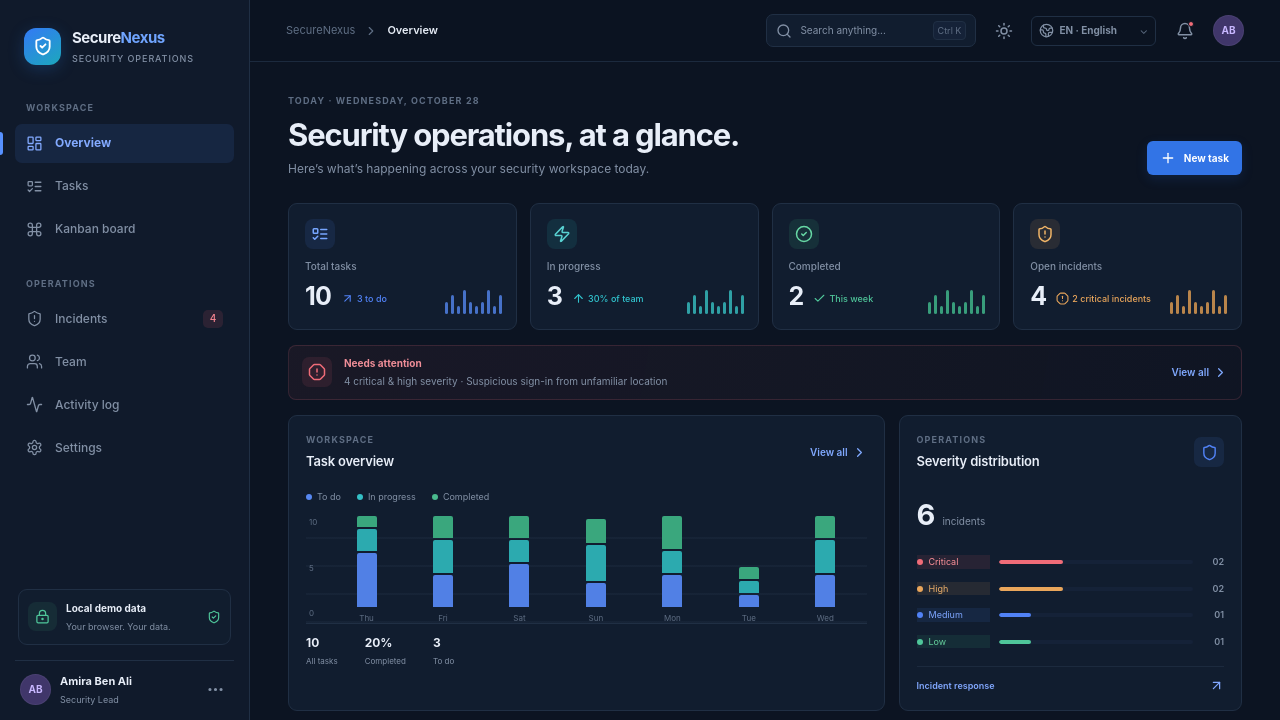
Scenario: navigates to task management and switches the interface to French RTL-aware locale
The image size is (1280, 720).
Click the link "Tasks". click: click(57, 186)
box: [26,178,88,194]
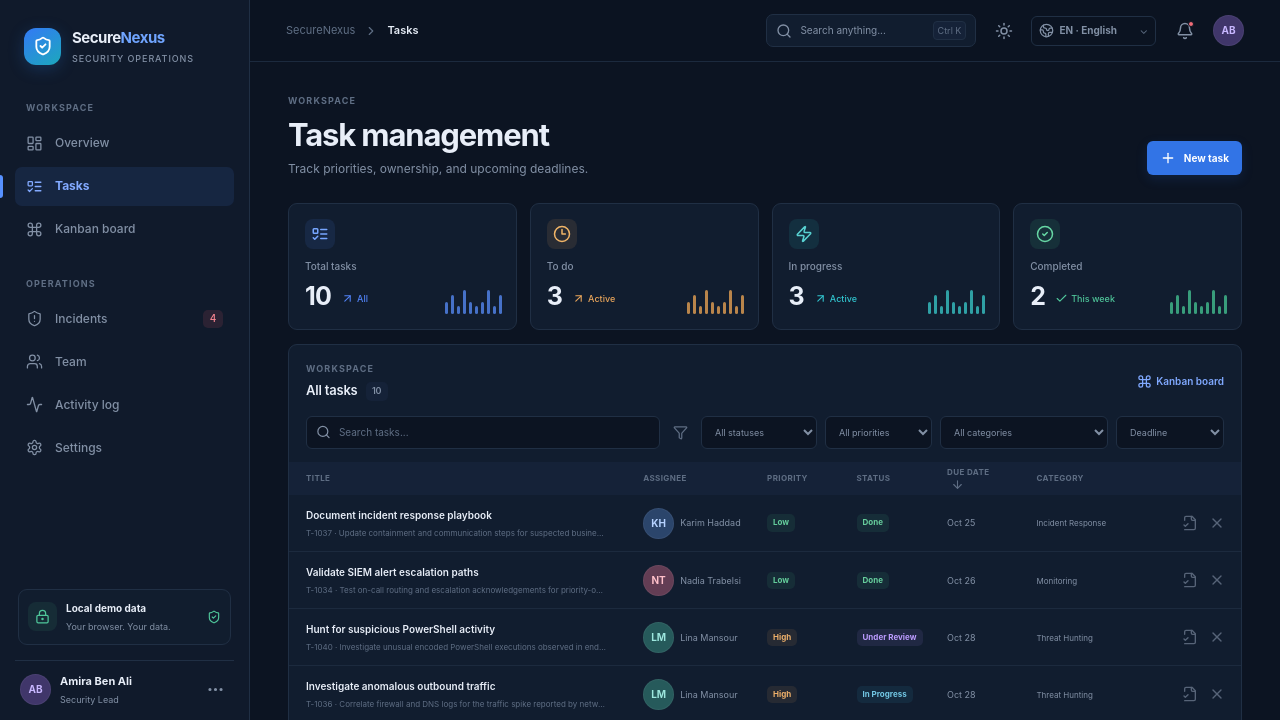
Now the heading "Task management" is shown, box [288,116,588,153]
Select "FR · Français" in the dropdown named "Language". click: (1097, 30)
box: [1059,17,1134,44]
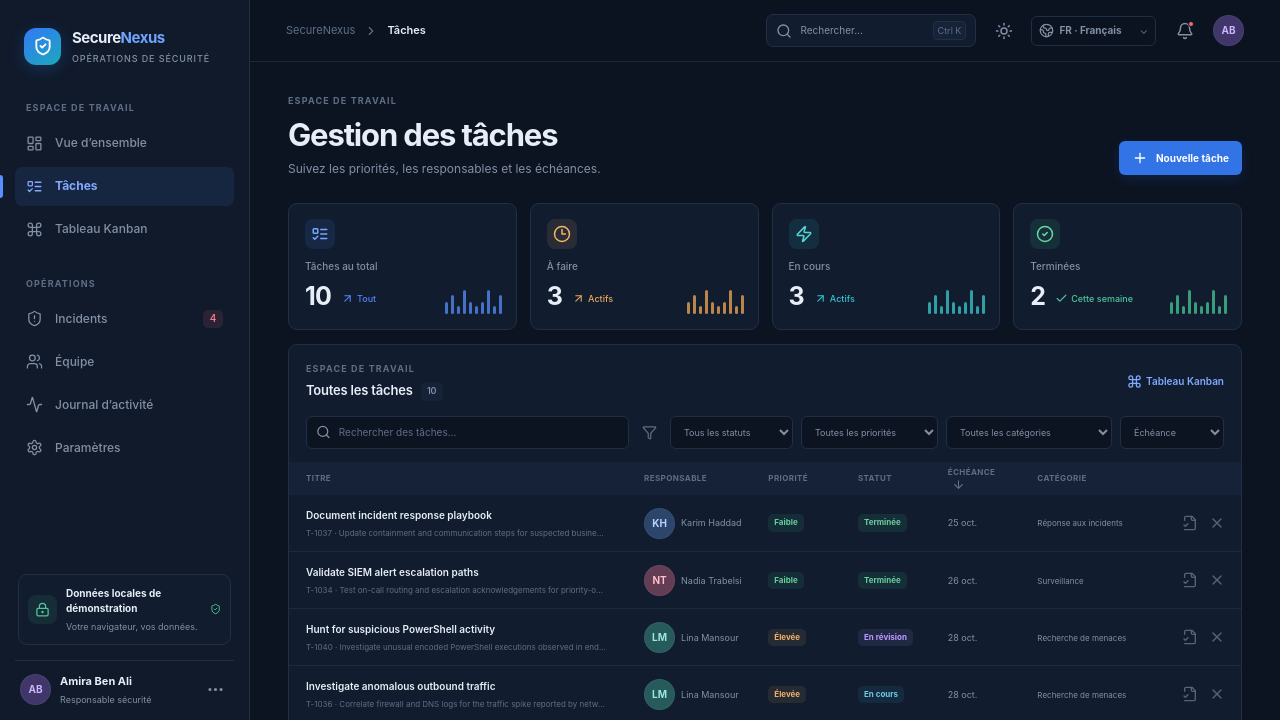
Now the heading "Gestion des tâches" is shown, box [288,116,601,153]
